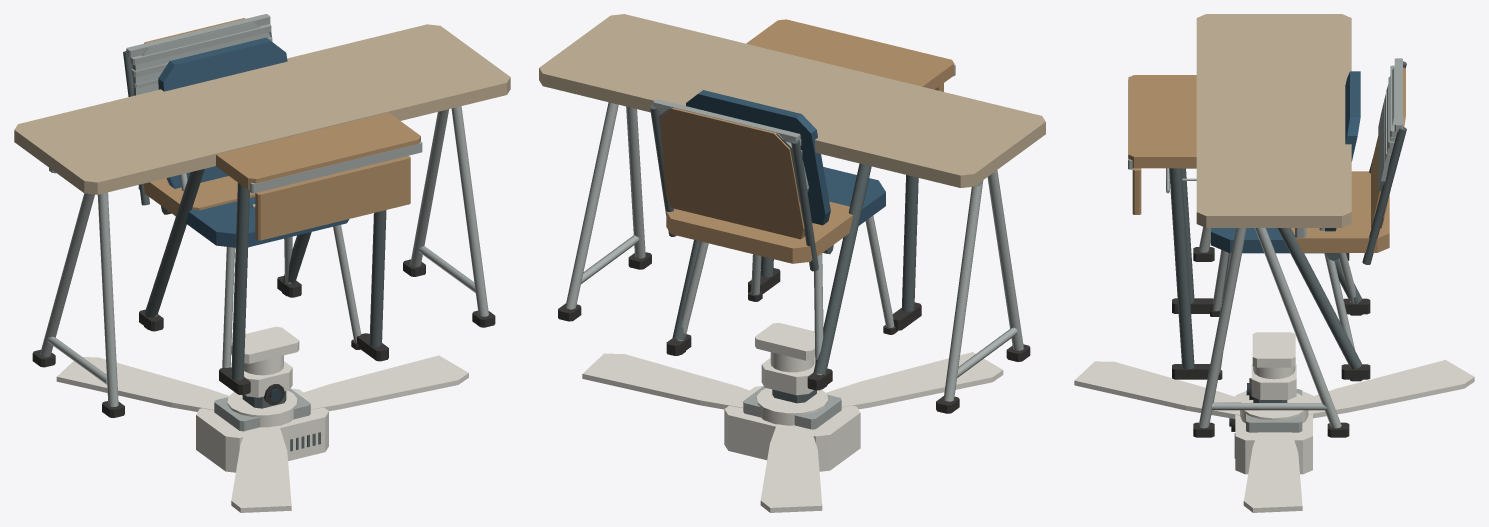
Rendered from teaching_fittings.glb.
3 renders of one model, left to right at view 1: azimuth 30°, elevation 25°; view 2: azimuth 150°, elevation 25°; view 3: azimuth 270°, elevation 25°, orthographic. The views are drawn at different scales.
Visible parts, largest first — view 1: NorthDesk, FiveBench, CeilingFan, NorthChair, Projector, OneBench, Camera, TwoBench; view 2: NorthDesk, FiveBench, CeilingFan, NorthChair, Projector, Camera, OneBench; view 3: NorthDesk, FiveBench, CeilingFan, NorthChair, Projector, OneBench, Camera, TwoBench.
Part boxes in pixels (x1,y1,x2,y2): NorthDesk: [14, 24, 510, 417]; FiveBench: [123, 18, 422, 395]; CeilingFan: [56, 355, 468, 512]; NorthChair: [144, 37, 361, 367]; Projector: [196, 326, 328, 472]; OneBench: [126, 14, 270, 95]; Camera: [242, 355, 292, 408]; TwoBench: [130, 24, 272, 208]; NorthDesk: [539, 14, 1045, 413]; FiveBench: [650, 19, 955, 390]; CeilingFan: [582, 352, 1003, 512]; NorthChair: [676, 90, 897, 389]; Projector: [724, 323, 860, 471]; Camera: [761, 352, 816, 403]; OneBench: [653, 99, 808, 201]; NorthDesk: [1193, 14, 1351, 437]; FiveBench: [1128, 61, 1406, 379]; CeilingFan: [1074, 360, 1474, 512]; NorthChair: [1210, 71, 1362, 381]; Projector: [1229, 332, 1312, 474]; OneBench: [1378, 58, 1404, 191]; Camera: [1247, 364, 1296, 402]; TwoBench: [1166, 65, 1397, 193].
Bounding box in the file's own units: 1.45 × 1.2 × 1.21.
